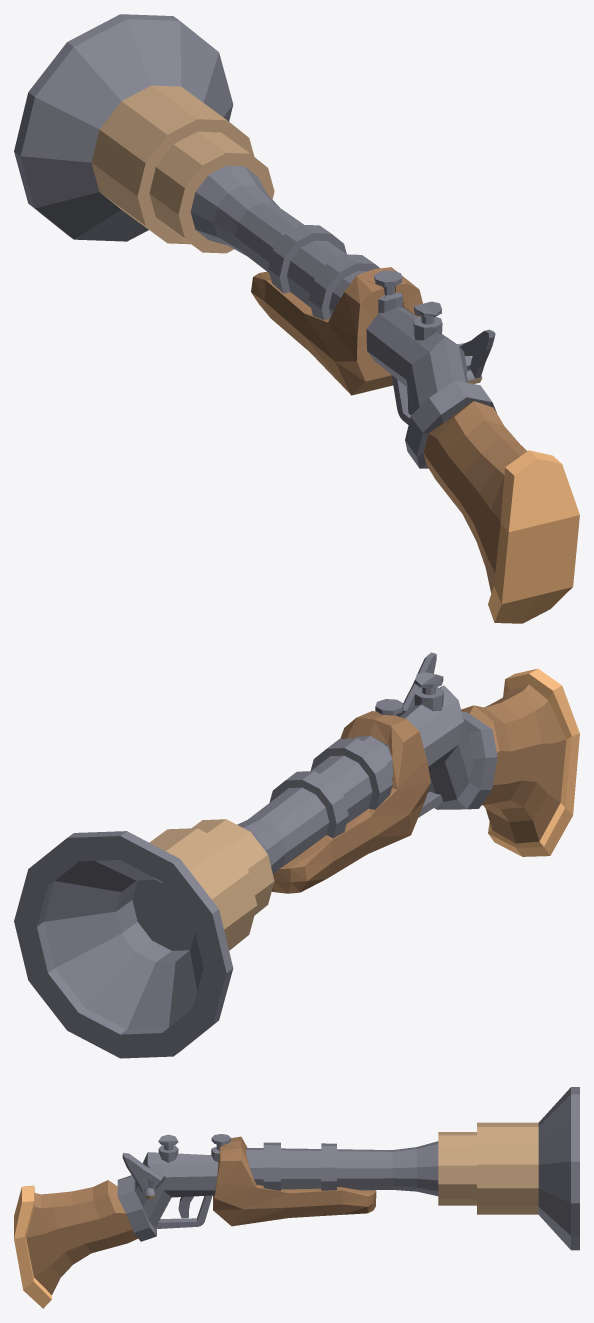
Rendered from gun.fbx.
3 renders of one model, top to bottom at view 1: azimuth 30°, elevation 25°; view 2: azimuth 150°, elevation 25°; view 3: azimuth 270°, elevation 25°, orthographic. The views are drawn at different scales.
Visible parts, largest first — view 1: polySurface10, polySurface11, polySurface30, polySurface29, polySurface31, polySurface21, polySurface4, polySurface32, polySurface25, polySurface22, polySurface26; view 2: polySurface10, polySurface29, polySurface31, polySurface11, polySurface21, polySurface32, polySurface4, polySurface30, polySurface25, polySurface22; view 3: polySurface11, polySurface29, polySurface31, polySurface10, polySurface21, polySurface4, polySurface32, polySurface30, polySurface22, polySurface28, polySurface25, polySurface26.
Boxes of the visible parts, x1,y1,x2,y2 form: polySurface10: (14, 14, 233, 241); polySurface11: (91, 85, 274, 253); polySurface30: (488, 450, 579, 623); polySurface29: (423, 401, 527, 593); polySurface31: (251, 267, 422, 395); polySurface21: (366, 307, 496, 468); polySurface4: (190, 165, 303, 272); polySurface32: (268, 224, 379, 319); polySurface25: (413, 301, 442, 340); polySurface22: (460, 329, 495, 378); polySurface26: (374, 270, 402, 313); polySurface10: (14, 831, 233, 1058); polySurface29: (461, 684, 566, 843); polySurface31: (272, 711, 430, 893); polySurface11: (149, 819, 274, 950); polySurface21: (374, 685, 497, 809); polySurface32: (285, 736, 392, 838); polySurface4: (237, 780, 336, 874); polySurface30: (488, 668, 579, 856); polySurface25: (414, 672, 443, 711); polySurface22: (402, 652, 436, 711); polySurface11: (438, 1122, 538, 1214); polySurface29: (26, 1180, 137, 1294); polySurface31: (213, 1136, 376, 1226); polySurface10: (538, 1087, 579, 1250); polySurface21: (117, 1152, 218, 1241); polySurface4: (337, 1141, 438, 1195); polySurface32: (246, 1142, 336, 1190); polySurface30: (14, 1185, 51, 1308); polySurface22: (122, 1153, 162, 1191); polySurface28: (155, 1195, 212, 1228); polySurface25: (158, 1134, 178, 1162); polySurface26: (211, 1134, 230, 1161).
Size of the model in its own units: 50.35 by 71.34 by 174.
